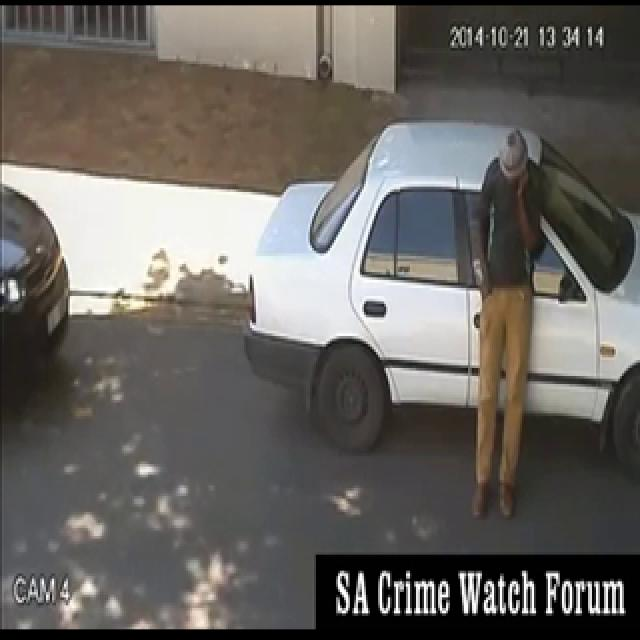stealing: (270, 9, 580, 568)
